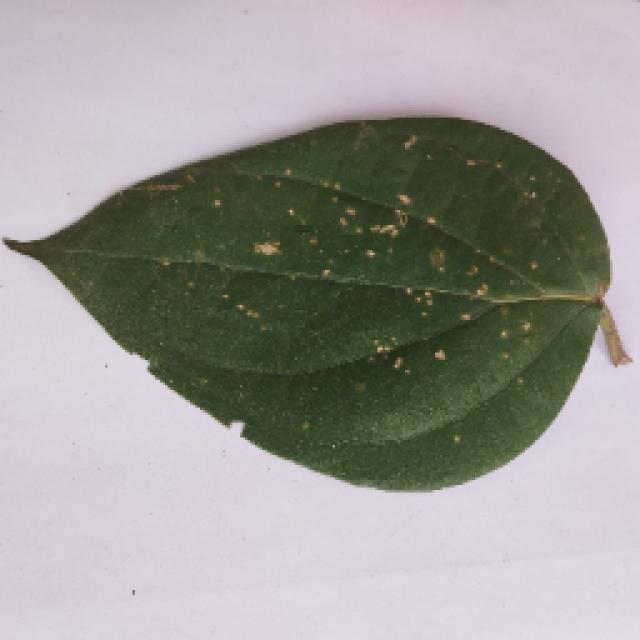pollu-disease: (2, 112, 620, 490)
